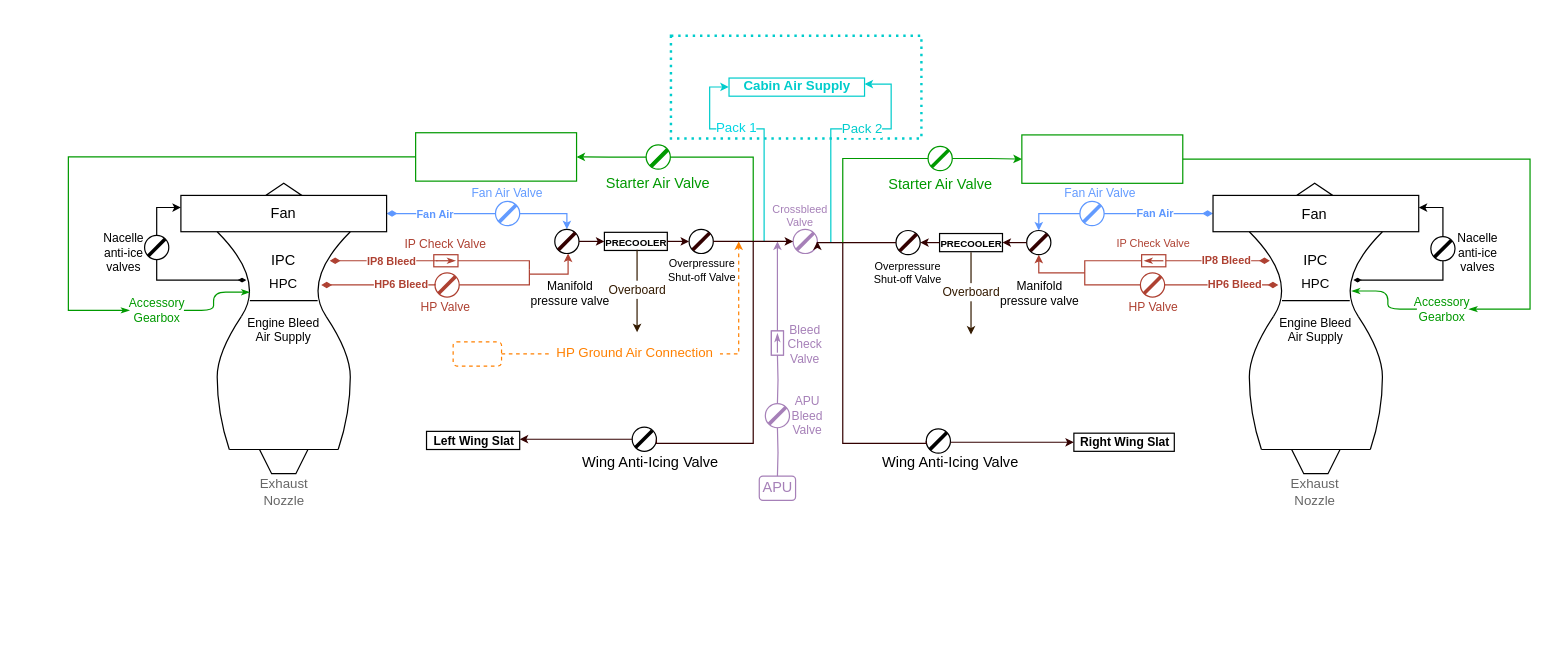
Some shapes in this 1558 by 651 pixel diagram are drawn without their labels. The shapes that lost their labels are listed below. From the top down, each one's box as (x1, y1, x2, y2) in pixels, then its label:
(669, 34, 922, 139): Environmental Control System
(414, 132, 577, 181): Left Engine Air Turbine Starter
(1021, 134, 1183, 183): Right Engine Air Turbine Starter
(452, 341, 502, 366): ASU
